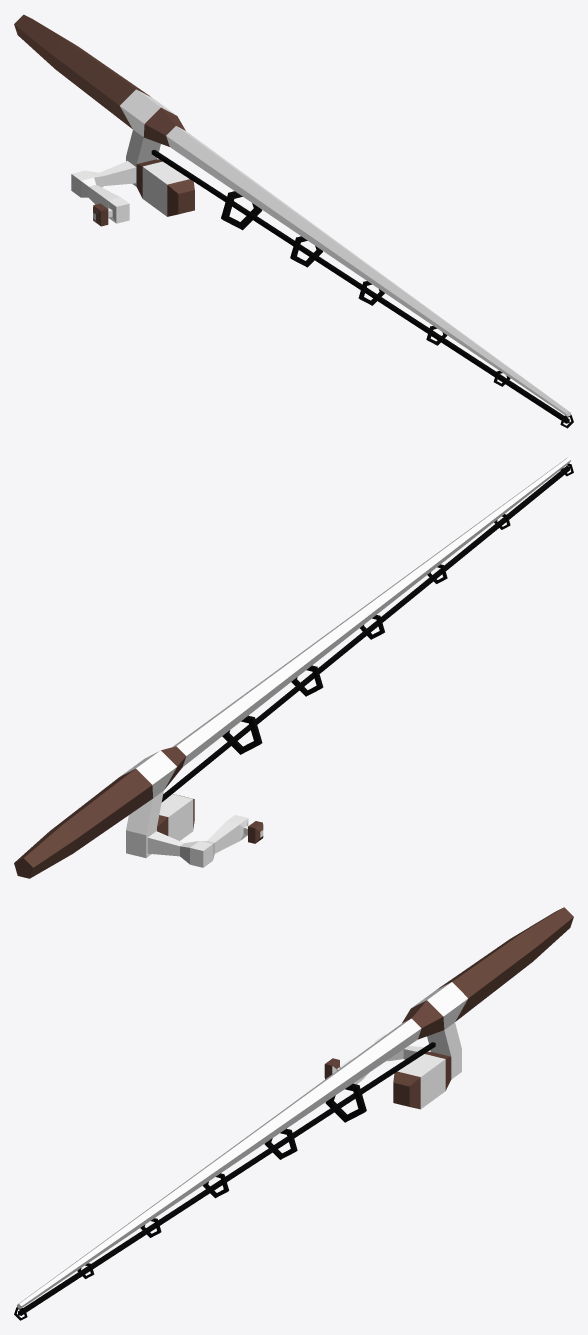
File: Rod.fbx
The picture shows the model from 3 angles, top to bottom: view 1: azimuth 30°, elevation 25°; view 2: azimuth 150°, elevation 25°; view 3: azimuth 330°, elevation 25°; orthographic projection.
Visible parts, largest first — view 1: Rod, Spinner; view 2: Rod, Spinner; view 3: Rod, Spinner.
Part boxes in pixels (x1,y1,x2,y2): Rod: (14, 14, 573, 428); Spinner: (71, 161, 136, 226); Rod: (14, 457, 573, 878); Spinner: (147, 815, 263, 867); Rod: (14, 907, 573, 1320); Spinner: (324, 1034, 430, 1084).
Size of the model in its own units: 0.4565 by 0.39 by 4.19.
